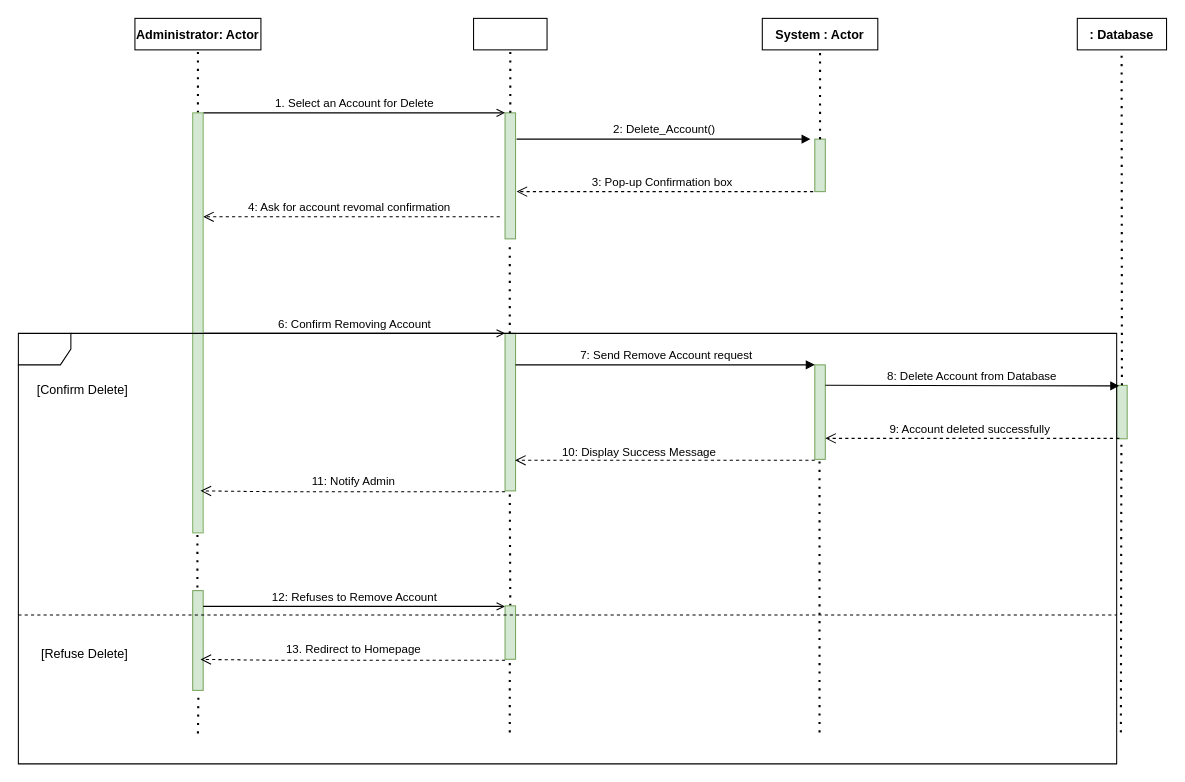
Some shapes in this 1185 by 782 pixel diagram are drawn without their labels. Each missing label, with the box of its shape:
Admin: UI: (472, 17, 547, 50)
alt: (17, 332, 1117, 764)
